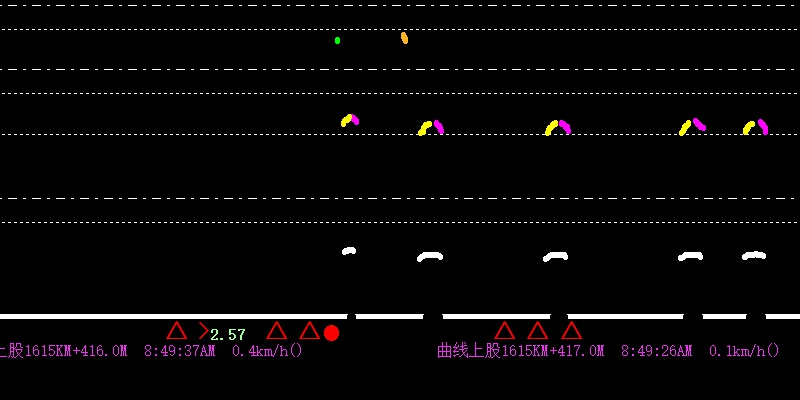circle: (322, 324, 339, 342)
face_down: (397, 24, 412, 46), (332, 25, 342, 47)
